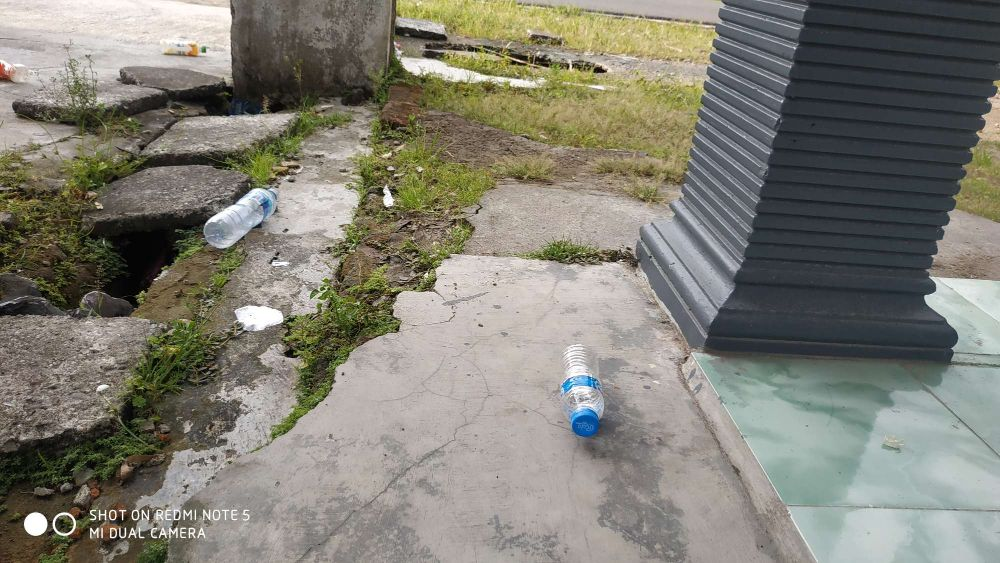botol: (192, 175, 291, 254), (551, 330, 616, 438)
